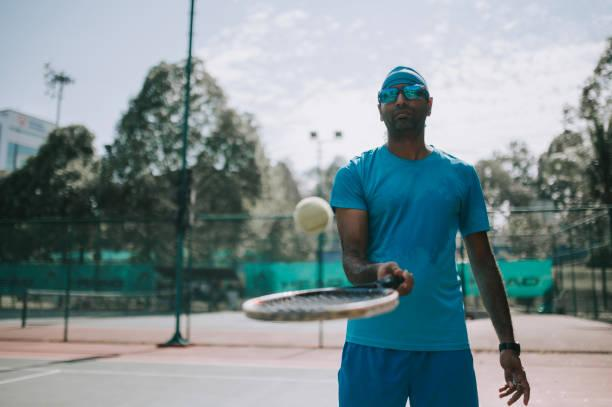ball_tennis: (293, 195, 334, 238)
